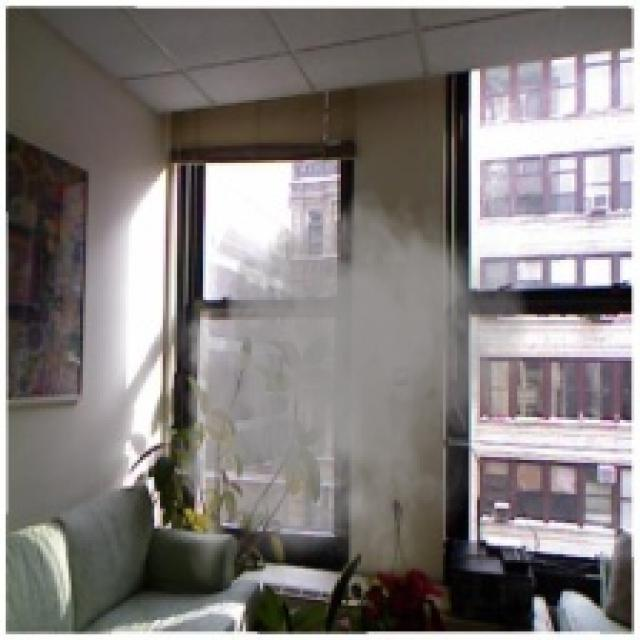smoke: (157, 177, 540, 597)
